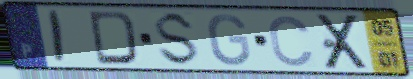C: (266, 14, 317, 69)
D: (87, 9, 141, 67)
G: (206, 13, 253, 68)
I: (48, 9, 68, 66)
S: (154, 10, 202, 69)
X: (314, 12, 372, 71)
